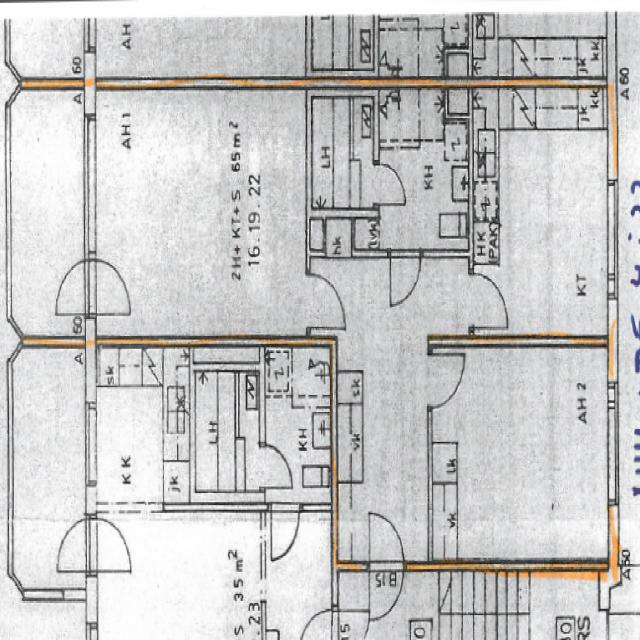door: (84, 260, 131, 315), (49, 260, 96, 315), (369, 505, 403, 572), (369, 559, 403, 626), (428, 353, 467, 408), (469, 274, 508, 328), (306, 274, 344, 328), (390, 251, 420, 304), (374, 164, 404, 204)
